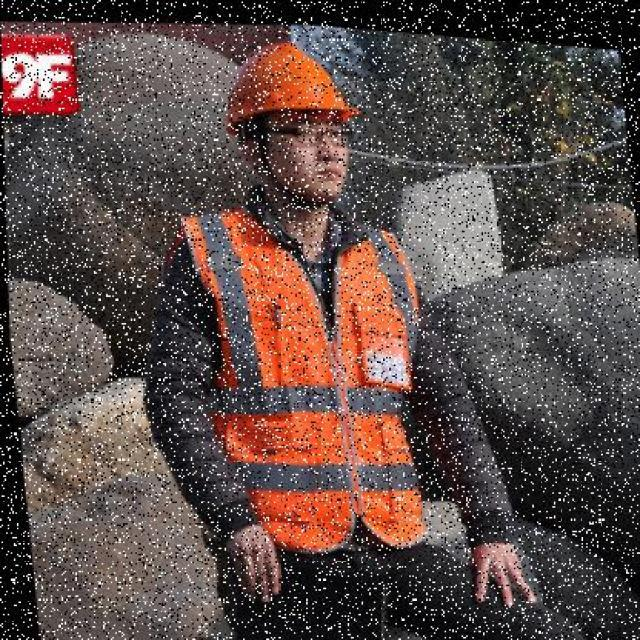helmet: (212, 26, 359, 128)
vest: (165, 189, 433, 551)
